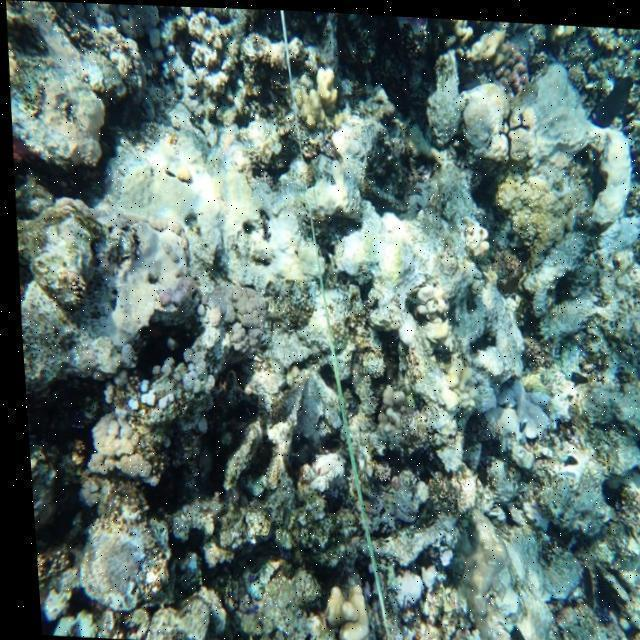Bleached Coral: (104, 112, 315, 246), (315, 178, 454, 346), (382, 566, 452, 609)
